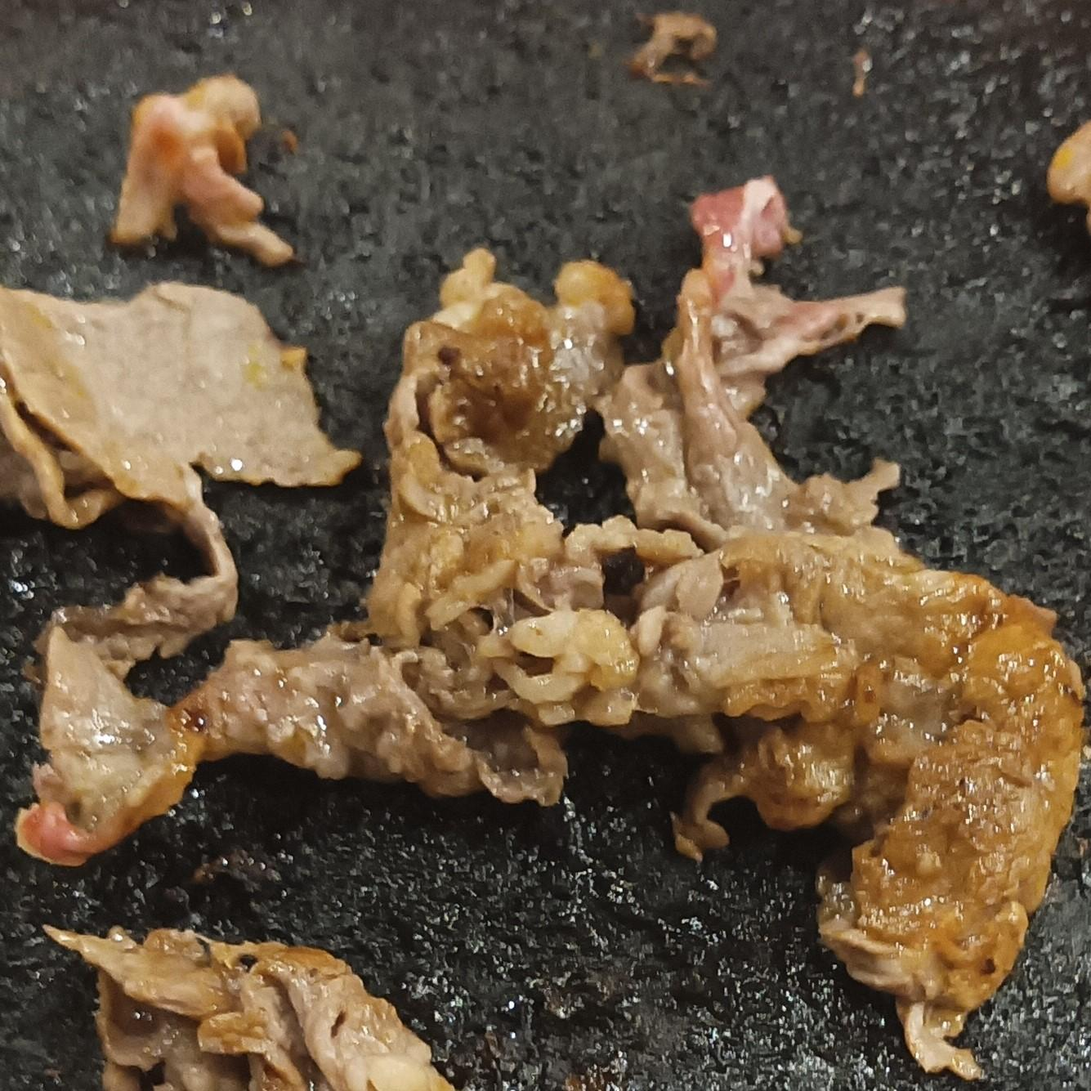Well-Cooked: (0, 180, 1087, 1085), (39, 932, 459, 1090)
